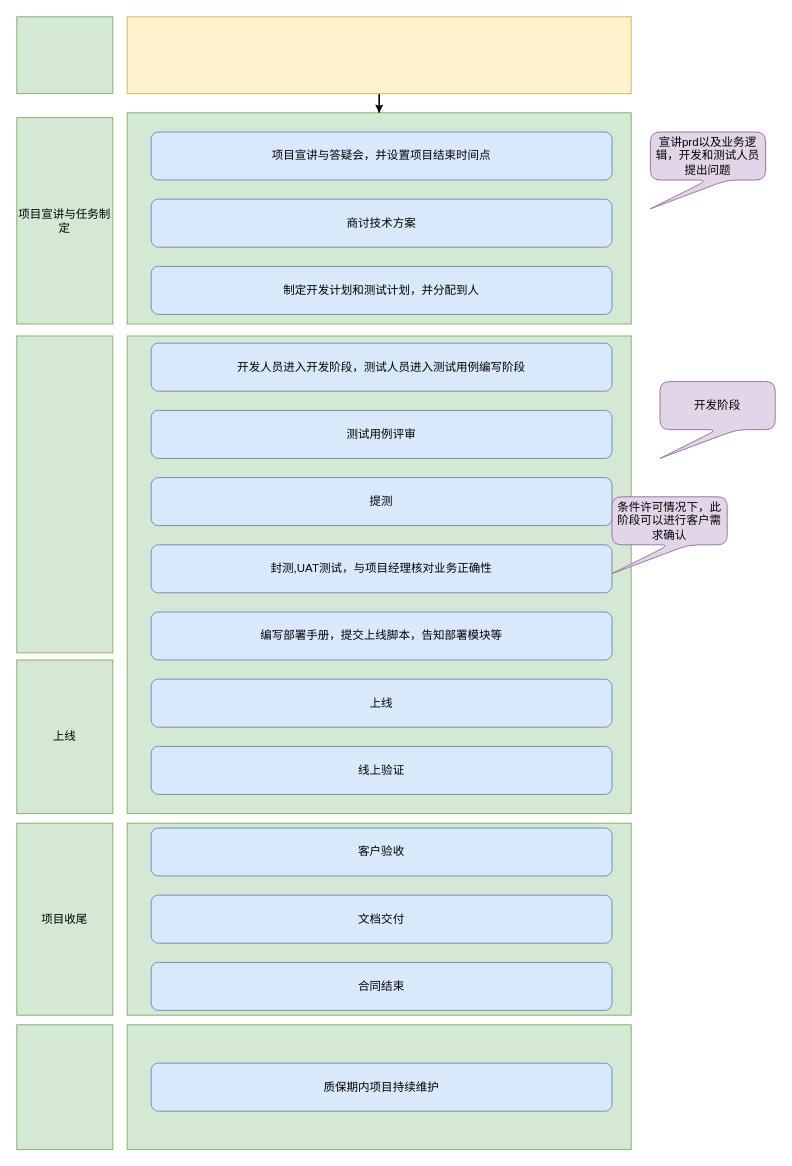
This 792x1166 diagram has some shape labels left out. The box of each missing label's shape, as (x1, y1, x2, y2) in pixels:
技术经理项目风险把控与进度跟踪: (16, 335, 113, 653)
项目prd与需求确定后: (126, 16, 631, 94)
项目沟通、需求确定、prd设计等: (16, 16, 113, 94)
项目维护: (16, 1024, 113, 1150)
